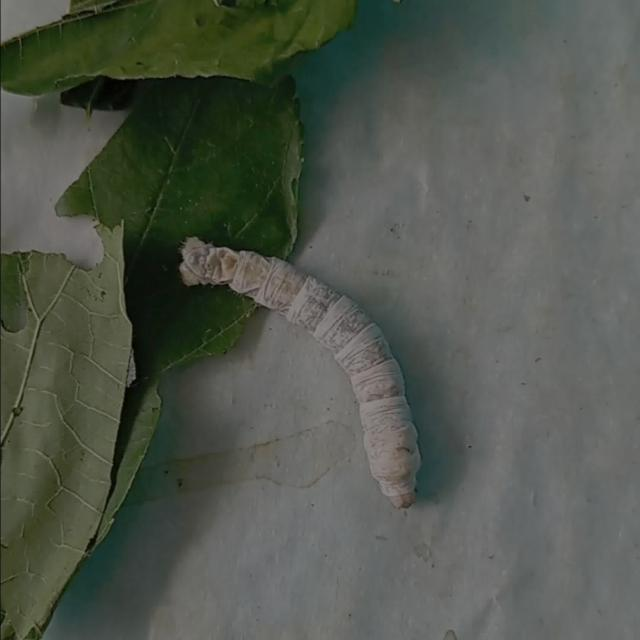Grasserie: (172, 225, 427, 516)
